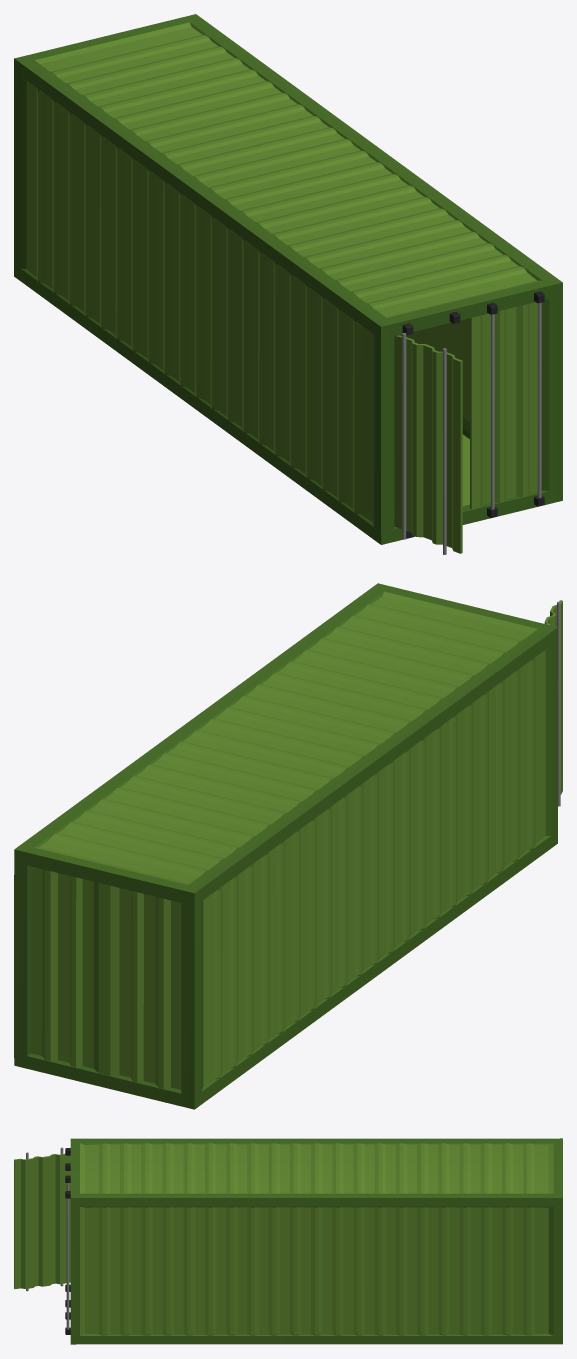
File: Large Green Shipping Container Open.fbx
3 views of the same model, one above another, from view 1: azimuth 30°, elevation 25°; view 2: azimuth 150°, elevation 25°; view 3: azimuth 270°, elevation 25° (orthographic). The views are drawn at different scales.
Parts seen in each view (by area): view 1: Large Green Shipping Container Open; view 2: Large Green Shipping Container Open; view 3: Large Green Shipping Container Open.
Boxes of the visible parts, box(x1,y1,x2,y2) form: Large Green Shipping Container Open: box(14, 14, 562, 554); Large Green Shipping Container Open: box(14, 583, 562, 1109); Large Green Shipping Container Open: box(14, 1138, 562, 1344).
Bounding box in the file's own units: 1062 × 3609 × 928.
1 material, 1 textured.
